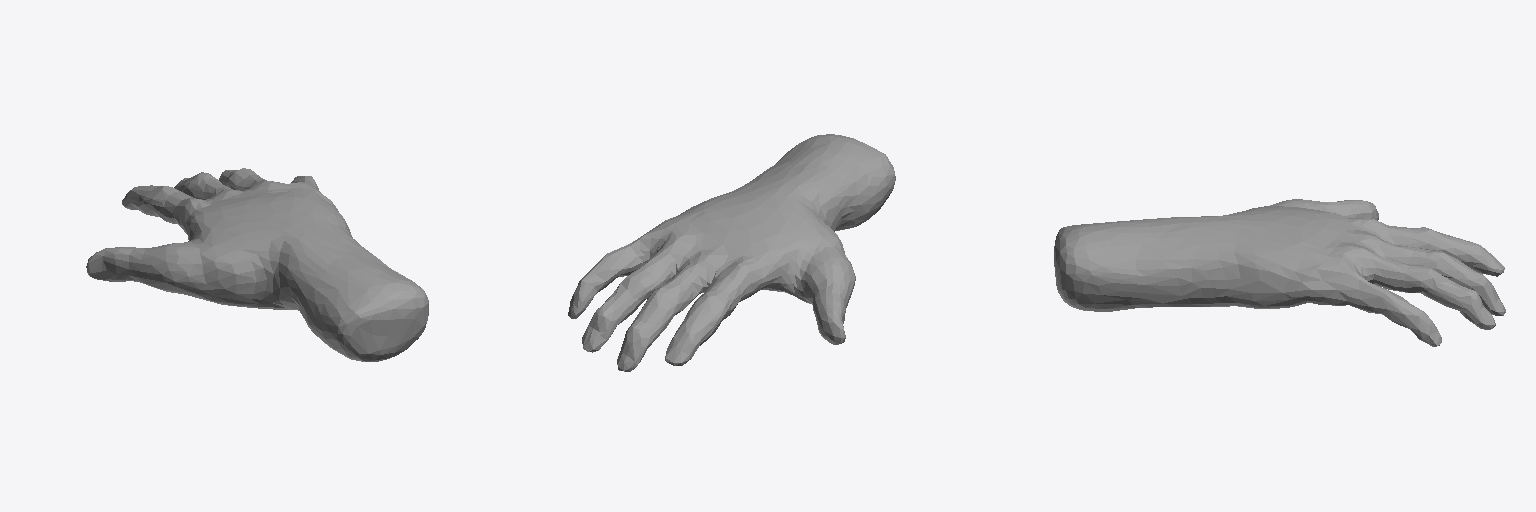
File: hand.obj
The picture shows the model from 3 angles: view 1: azimuth 30°, elevation 25°; view 2: azimuth 150°, elevation 25°; view 3: azimuth 270°, elevation 25°; orthographic projection.
Parts seen in each view (by area): view 1: Hand_LP_Cube.005; view 2: Hand_LP_Cube.005; view 3: Hand_LP_Cube.005.
Part boxes in pixels (bbox=[...]): Hand_LP_Cube.005: bbox=[86, 168, 428, 361]; Hand_LP_Cube.005: bbox=[568, 134, 895, 371]; Hand_LP_Cube.005: bbox=[1054, 199, 1505, 346].
Size of the model in its own units: 6.44 by 2.16 by 10.26.